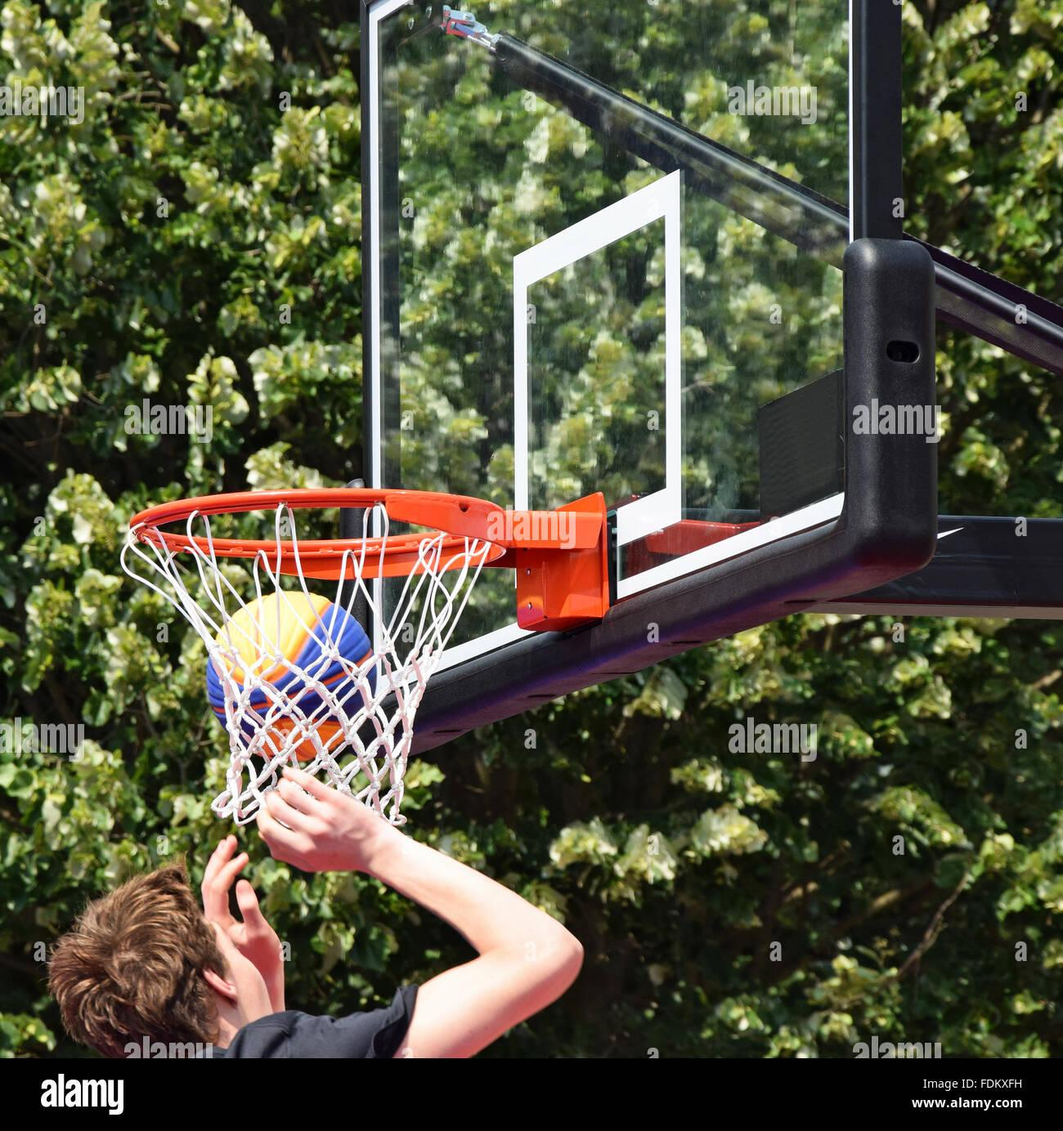basketball: (208, 593, 376, 757)
